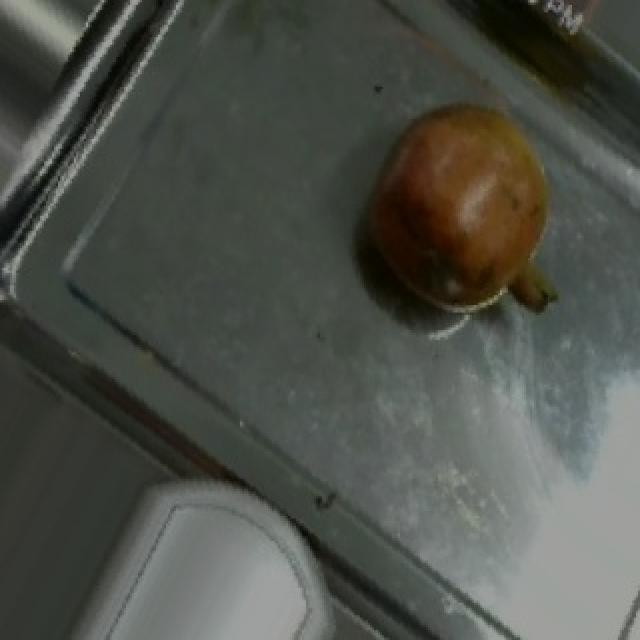fruit: (330, 69, 586, 340)
